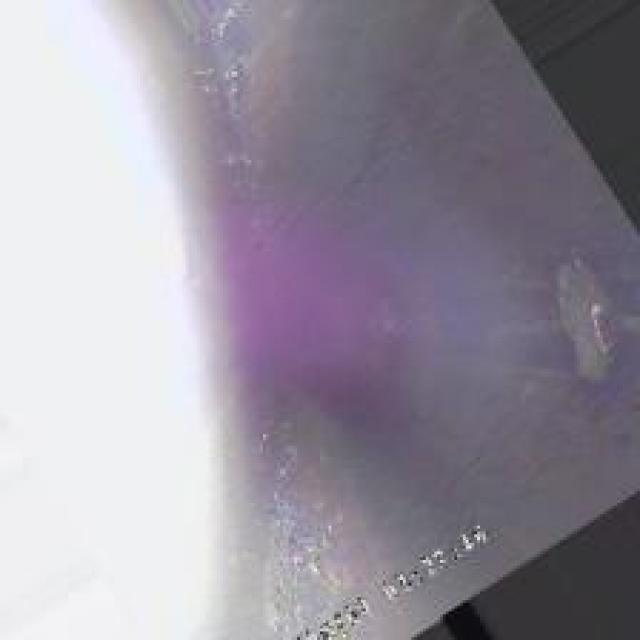ferrule: (554, 277, 617, 374)
